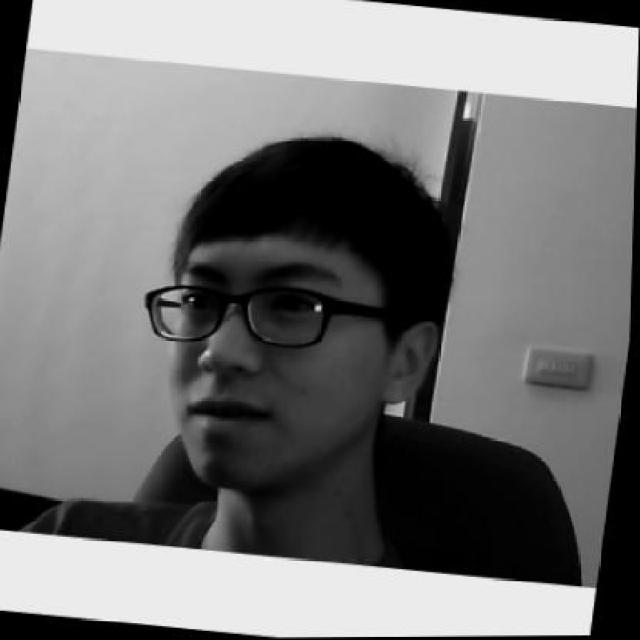attentif: (124, 121, 462, 505)
